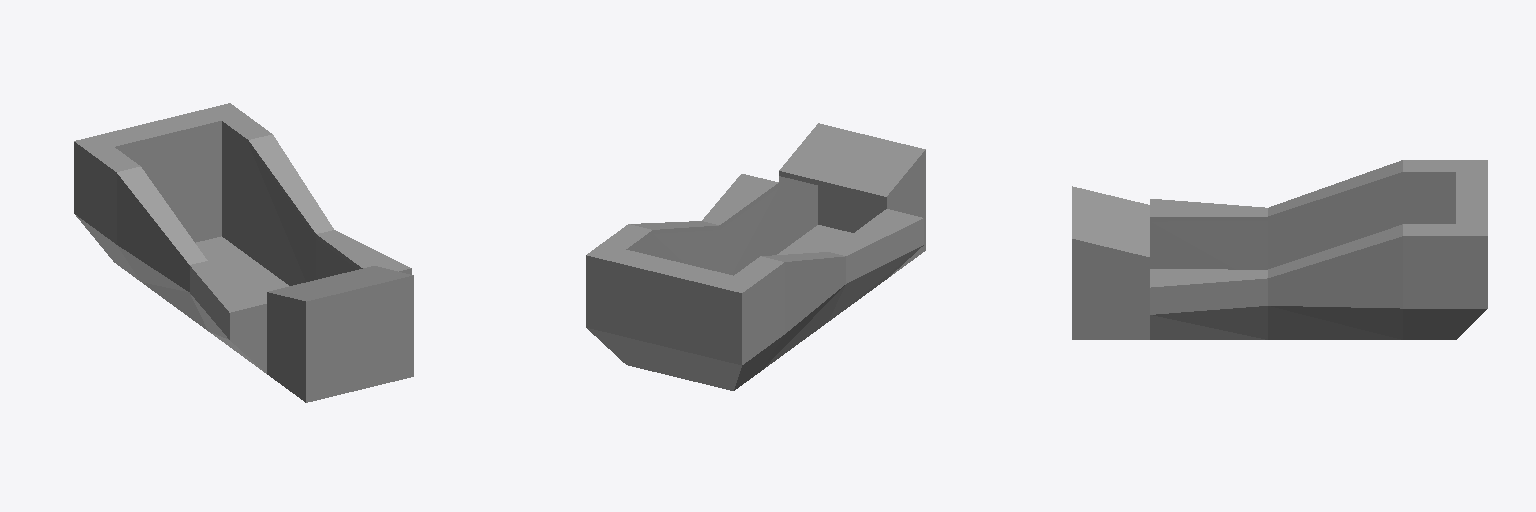
Rendered from CockpitMain.obj.
3 renders of one model, left to right at view 1: azimuth 30°, elevation 25°; view 2: azimuth 150°, elevation 25°; view 3: azimuth 270°, elevation 25°, orthographic.
Parts seen in each view (by area): view 1: CockpitMain_Plane.001; view 2: CockpitMain_Plane.001; view 3: CockpitMain_Plane.001.
Boxes of the visible parts, box(x1,y1,x2,y2) form: CockpitMain_Plane.001: box(74, 103, 413, 402); CockpitMain_Plane.001: box(586, 123, 925, 390); CockpitMain_Plane.001: box(1072, 160, 1487, 339).
Size of the model in its own units: 1.08 by 0.6528 by 2.13.